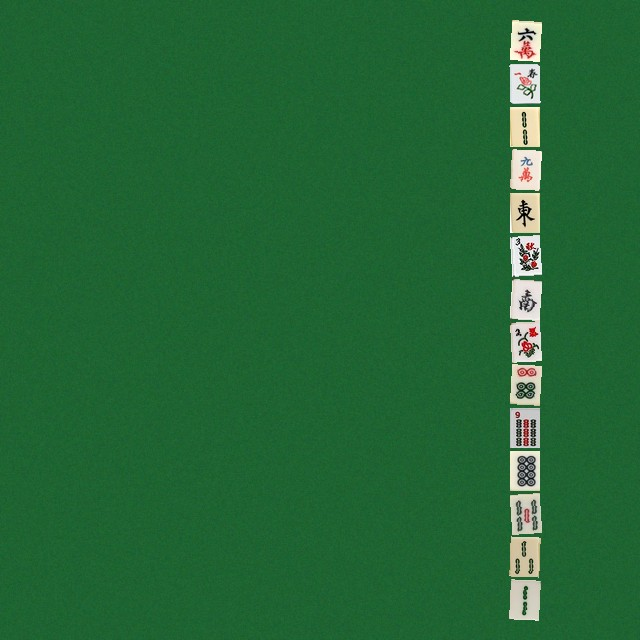tile: (509, 20, 539, 60), (509, 63, 539, 103), (509, 106, 539, 146), (509, 149, 539, 189), (509, 192, 539, 232), (509, 235, 539, 275), (509, 278, 539, 318), (509, 321, 539, 361), (509, 364, 539, 404), (509, 407, 539, 447), (509, 450, 539, 490), (509, 493, 539, 533), (509, 536, 539, 576), (509, 579, 539, 619)
